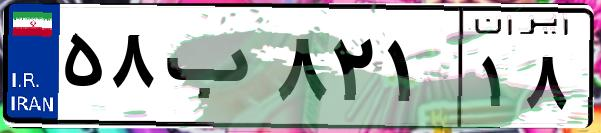1: (385, 28, 445, 110), (475, 38, 525, 113)
2: (330, 28, 385, 110)
5: (57, 26, 110, 100)
8: (270, 28, 330, 110), (525, 38, 570, 115), (110, 28, 158, 98)
ب: (158, 20, 270, 120)
